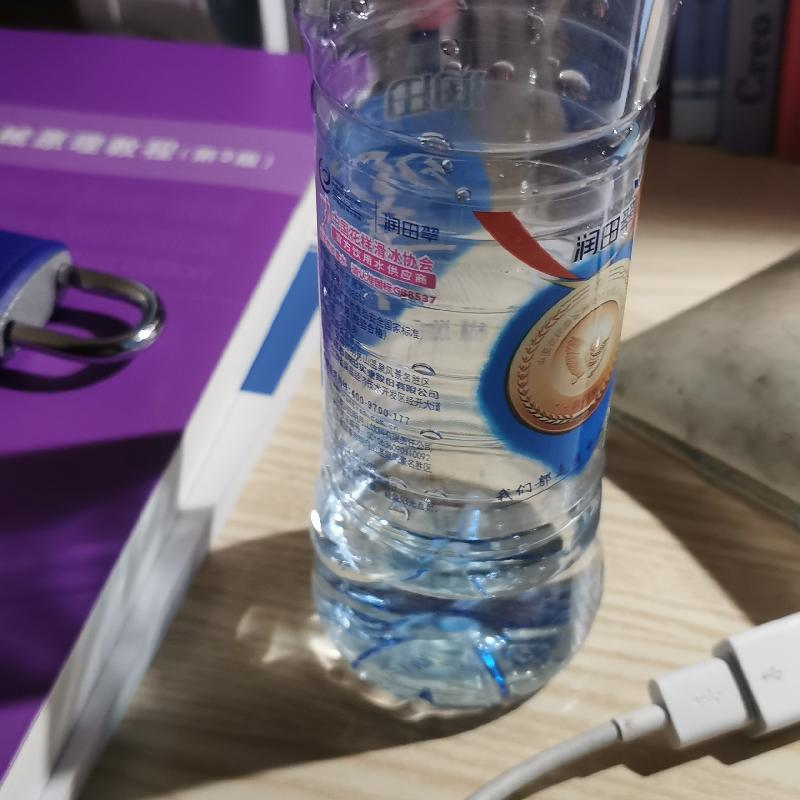bottles: (299, 0, 661, 718)
